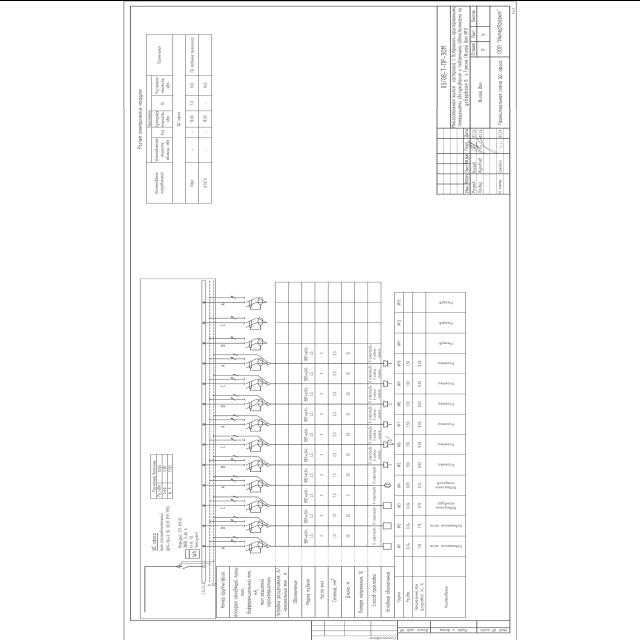-: (178, 514, 200, 548), (158, 504, 171, 552)
QFD: (243, 376, 263, 391), (243, 417, 263, 431), (244, 295, 264, 309), (244, 336, 264, 350), (243, 538, 263, 552), (244, 518, 264, 532), (244, 498, 264, 512), (244, 478, 264, 492), (244, 458, 264, 472), (244, 437, 264, 451), (244, 356, 264, 370), (242, 397, 262, 411), (244, 316, 264, 330)
WH: (184, 548, 200, 558)
